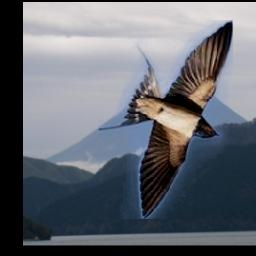Swallow: (97, 21, 232, 220)
